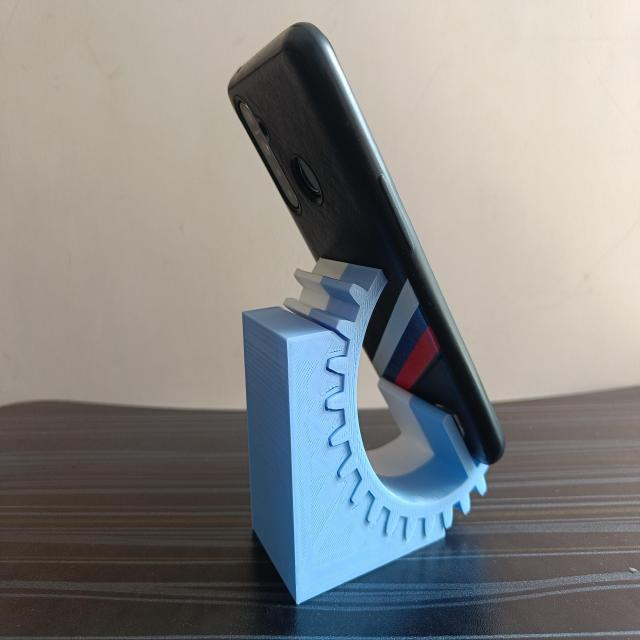Without deffect: (206, 254, 510, 610)
